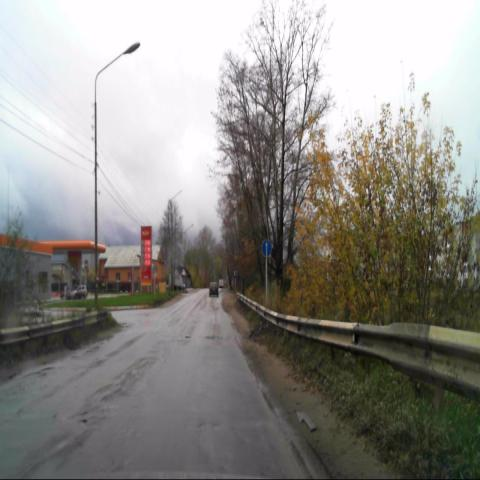4_1_1: (260, 238, 272, 257)
